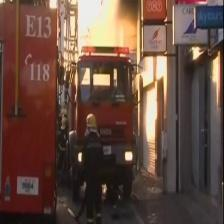fire: (67, 1, 106, 48)
